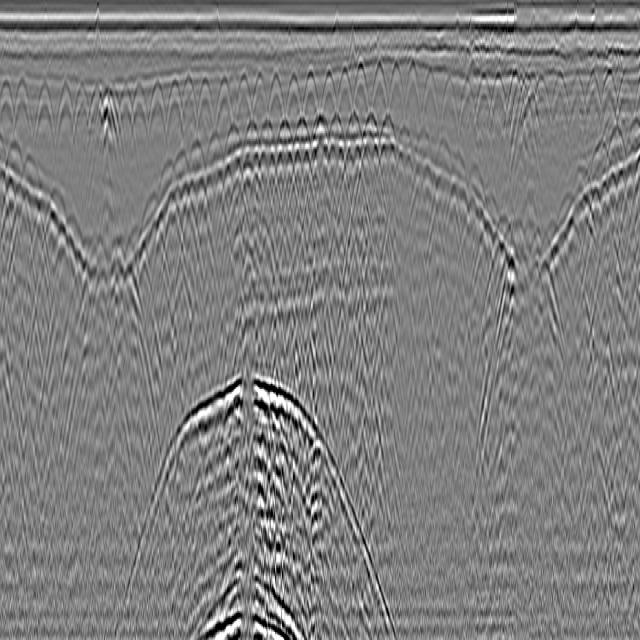hyperbola: (51, 81, 78, 163), (127, 81, 154, 162), (484, 69, 511, 150), (11, 74, 35, 162), (578, 67, 604, 147), (112, 84, 138, 162), (546, 68, 572, 146), (143, 79, 169, 155), (31, 83, 58, 154), (454, 69, 481, 138), (161, 70, 185, 143), (176, 69, 201, 138), (230, 69, 253, 142), (416, 63, 440, 132), (68, 84, 92, 150), (192, 74, 217, 135), (598, 65, 621, 130), (553, 188, 579, 245), (471, 69, 494, 129), (590, 137, 614, 194), (402, 57, 423, 120), (264, 69, 284, 135), (504, 66, 525, 127), (438, 72, 459, 132), (374, 112, 399, 162), (614, 67, 635, 125), (249, 68, 270, 124), (301, 64, 321, 122), (318, 65, 338, 121), (370, 57, 390, 112), (336, 66, 354, 126), (213, 75, 234, 126), (154, 158, 175, 208), (350, 60, 371, 110), (604, 123, 626, 170), (360, 111, 381, 160), (84, 87, 102, 144), (388, 60, 407, 113), (534, 71, 553, 124), (570, 162, 591, 208), (284, 64, 302, 117), (343, 110, 364, 155), (0, 81, 17, 135), (185, 138, 204, 180), (395, 117, 414, 155), (206, 129, 223, 167), (170, 151, 189, 185), (223, 122, 241, 156), (242, 117, 259, 147), (293, 114, 310, 144), (311, 108, 328, 138), (327, 112, 344, 141), (275, 116, 293, 142), (259, 116, 275, 145)
